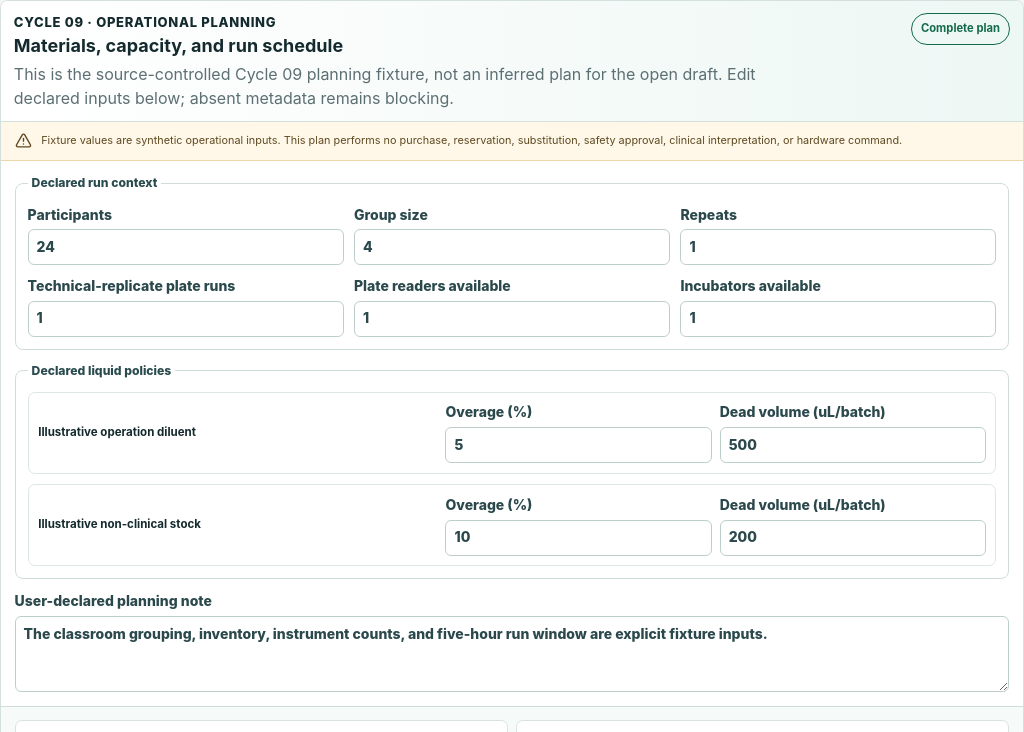
Test: AssayRunPlanner › recalculates plate and tip requirements from declared grouping
Replace the text in the number field labelled "Participants" with "8" at (186, 247), box [28,229,344,265]
(page scrolled)
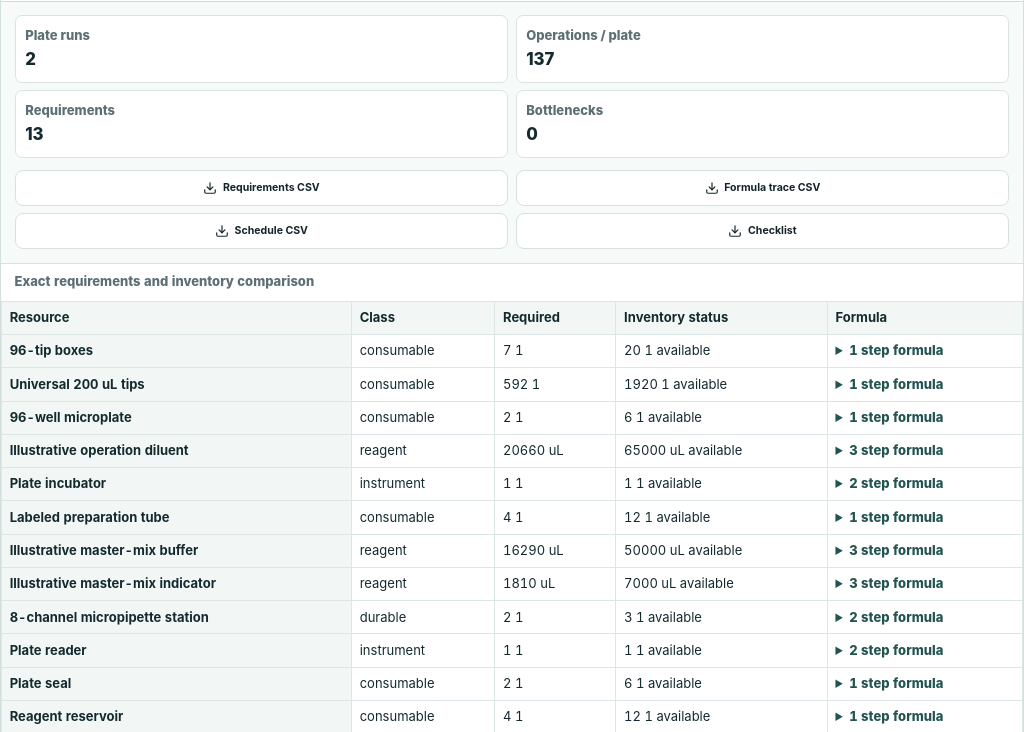
Expected: the text "2 1" in the row of "96-well microplate" is shown, [495,401,616,434]
Expected: the text "592 1" is shown, [495,368,616,401]
